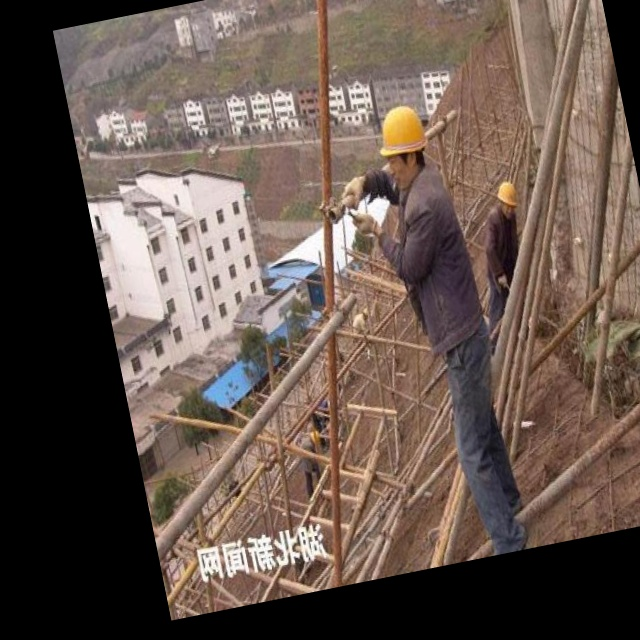Con_Casco: (368, 96, 436, 191), (493, 179, 523, 223)
